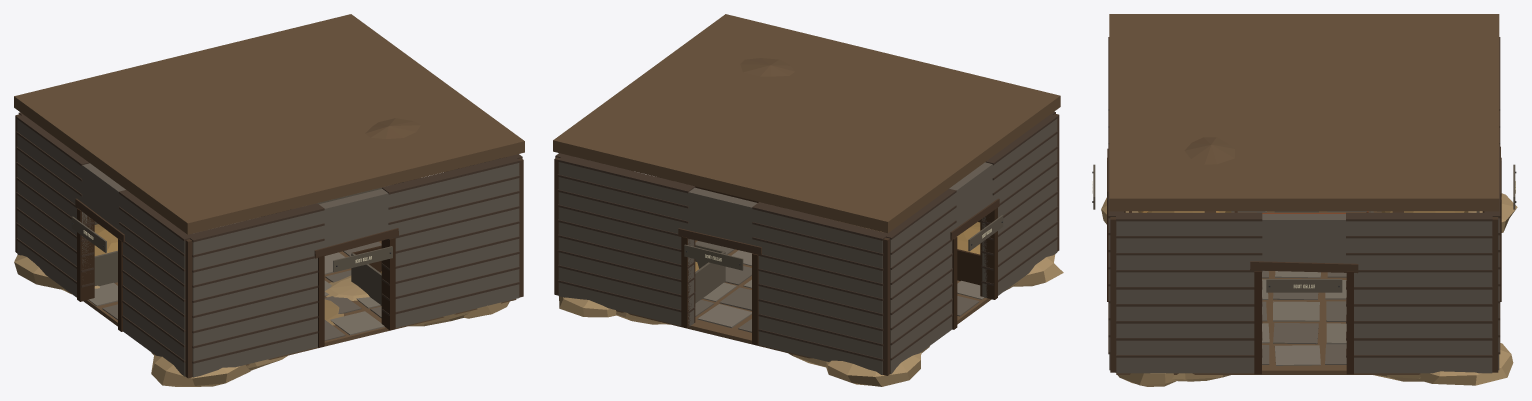
File: TownBldg_cellar.glb
3 renders of one model, left to right at view 1: azimuth 30°, elevation 25°; view 2: azimuth 150°, elevation 25°; view 3: azimuth 270°, elevation 25°, orthographic. The views are drawn at different scales.
Parts seen in each view (by area): view 1: TownBldg_cellar.001; view 2: TownBldg_cellar.001; view 3: TownBldg_cellar.001.
Boxes of the visible parts, x1,y1,x2,y2 form: TownBldg_cellar.001: (14,14,524,386); TownBldg_cellar.001: (553,14,1063,386); TownBldg_cellar.001: (1092,14,1517,386).
Bounding box in the file's own units: 10.06 × 4.8 × 9.05.
